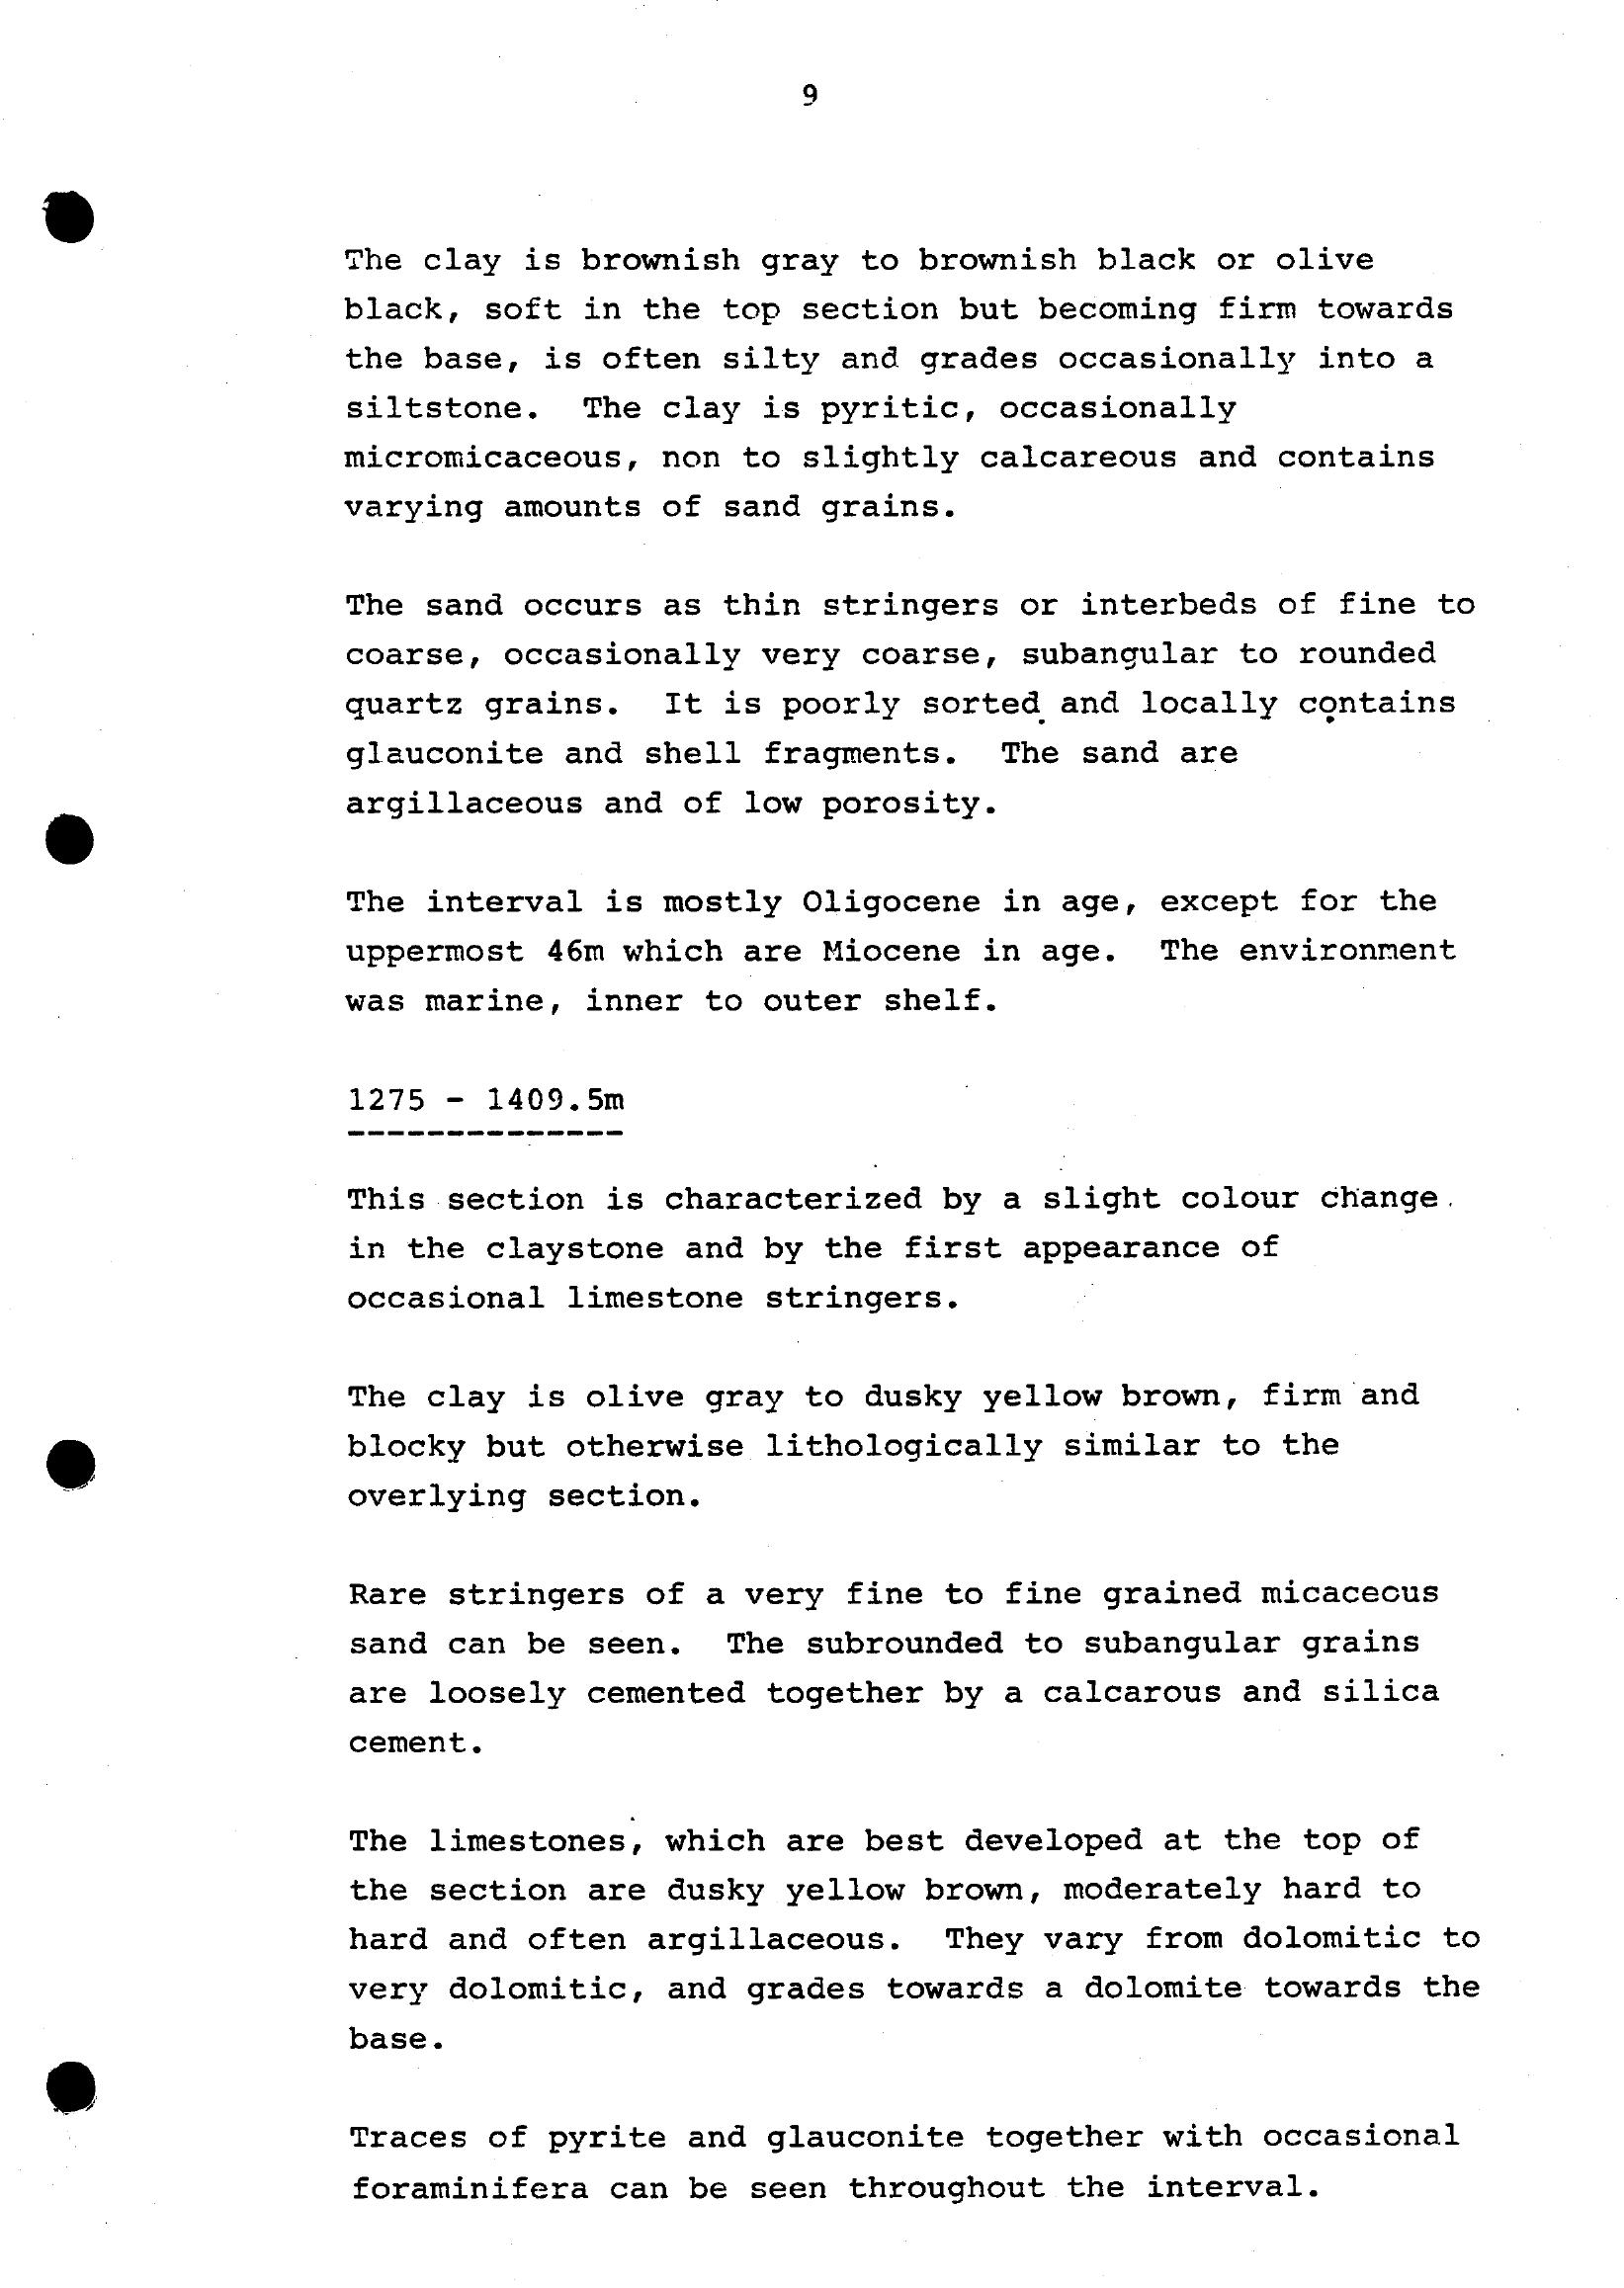text: (318, 213, 1517, 2235)
